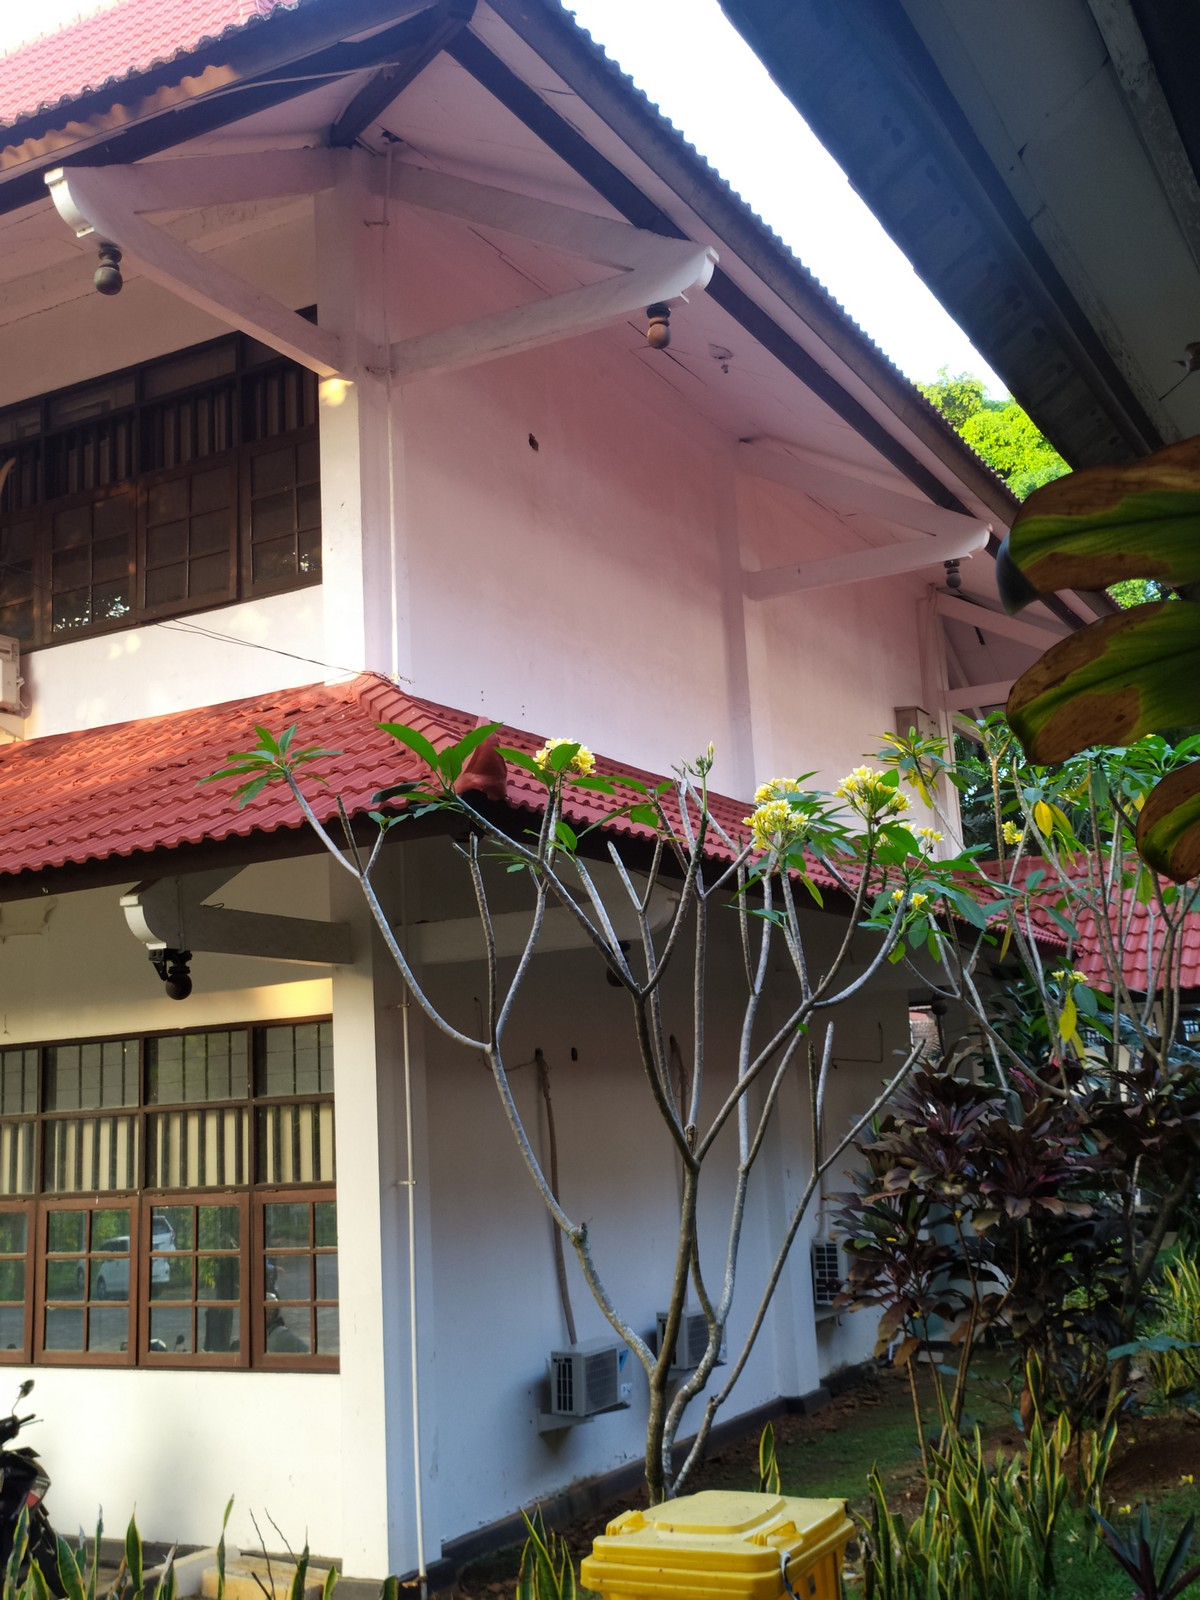concrete beam: (180, 896, 377, 986)
concrete column: (326, 872, 454, 1575), (304, 184, 418, 684), (706, 427, 787, 808)
